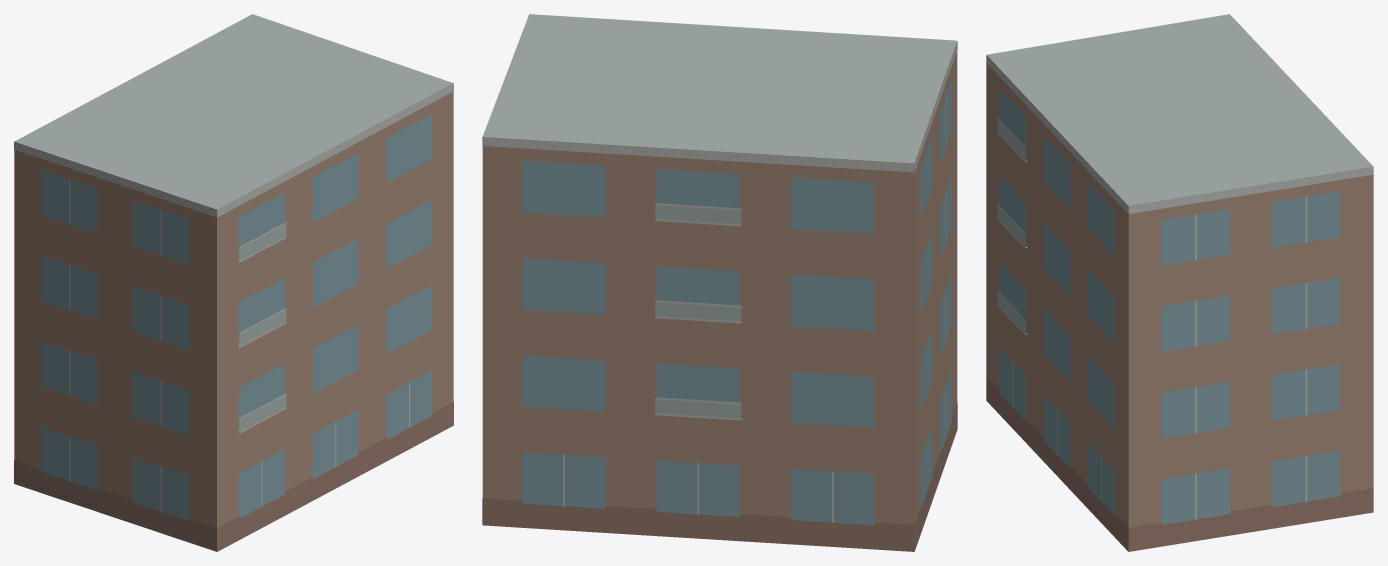
File: survey-upis-32888421.glb
3 renders of one model, left to right at view 1: azimuth 30°, elevation 25°; view 2: azimuth 150°, elevation 25°; view 3: azimuth 270°, elevation 25°, orthographic. The views are drawn at different scales.
Parts seen in each view (by area): view 1: survey-upis-32888421.tmp; view 2: survey-upis-32888421.tmp; view 3: survey-upis-32888421.tmp.
Boxes of the visible parts, x1,y1,x2,y2 form: survey-upis-32888421.tmp: (14,14,453,551); survey-upis-32888421.tmp: (482,14,957,551); survey-upis-32888421.tmp: (986,14,1373,551).
Bounding box in the file's own units: 12.52 × 10.5 × 10.67.
